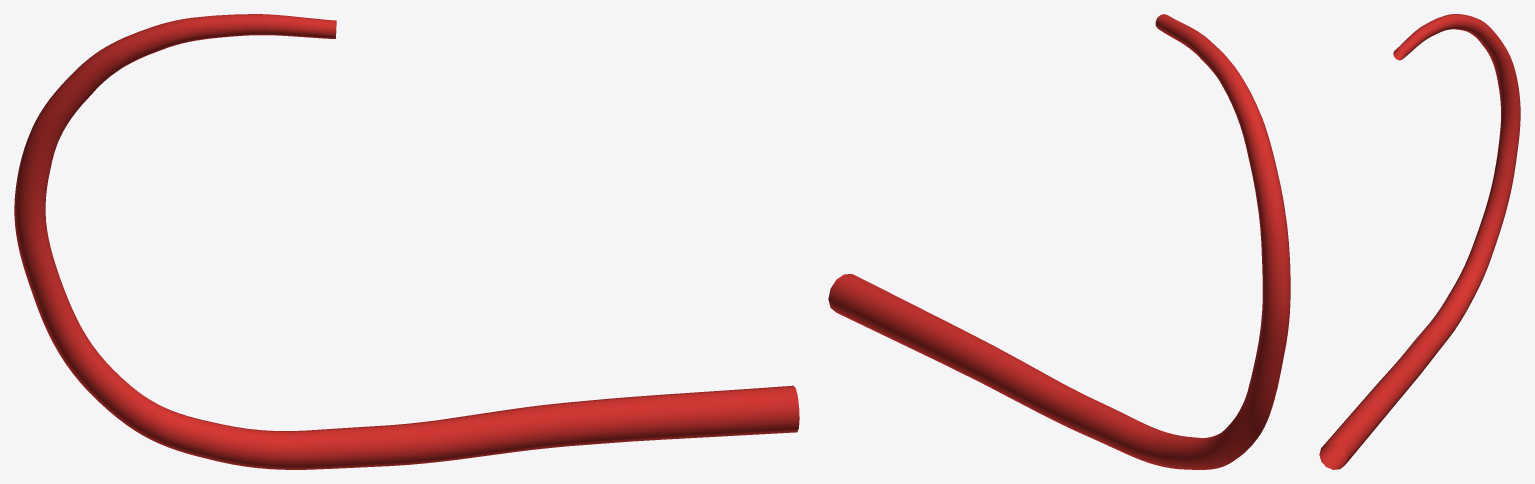
The model's file is circulatorio-colic-branch-of-ileocolic-artery.glb.
3 renders of one model, left to right at view 1: azimuth 30°, elevation 25°; view 2: azimuth 150°, elevation 25°; view 3: azimuth 270°, elevation 25°, orthographic. The views are drawn at different scales.
Visible parts, largest first — view 1: Colic branch of ileocolic artery; view 2: Colic branch of ileocolic artery; view 3: Colic branch of ileocolic artery.
Boxes of the visible parts, <box> form: Colic branch of ileocolic artery: <box>14,14,799,469</box>; Colic branch of ileocolic artery: <box>828,14,1290,469</box>; Colic branch of ileocolic artery: <box>1319,14,1520,469</box>.
Size of the model in its own units: 0.0475 by 0.0337 by 0.0205.
